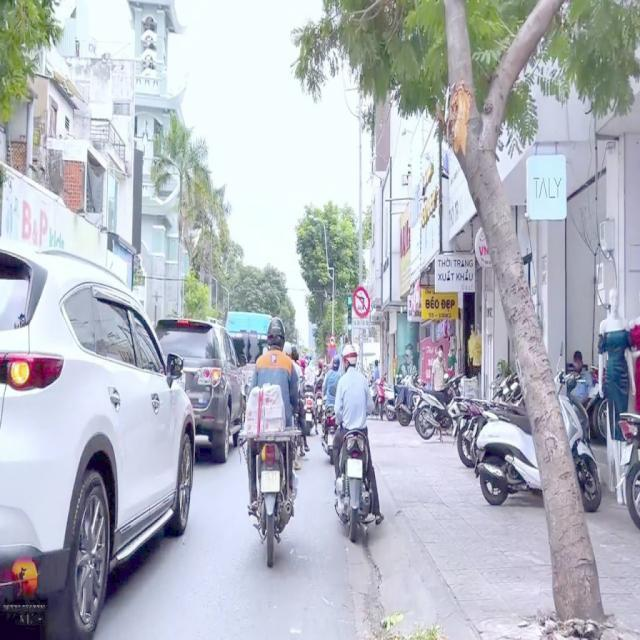106-cam-oto-tai: (329, 337, 335, 348)
123a-cam-re-trai: (353, 287, 371, 317)
